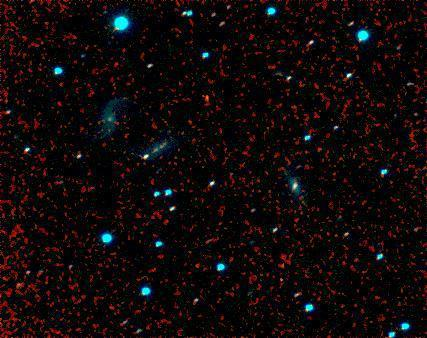star: (193, 84, 223, 114)
